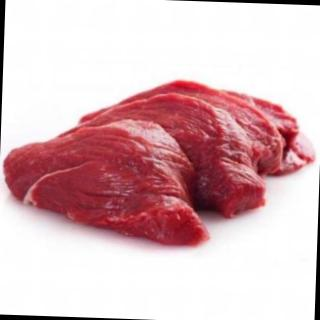Daging Sapi: (4, 122, 215, 249)
